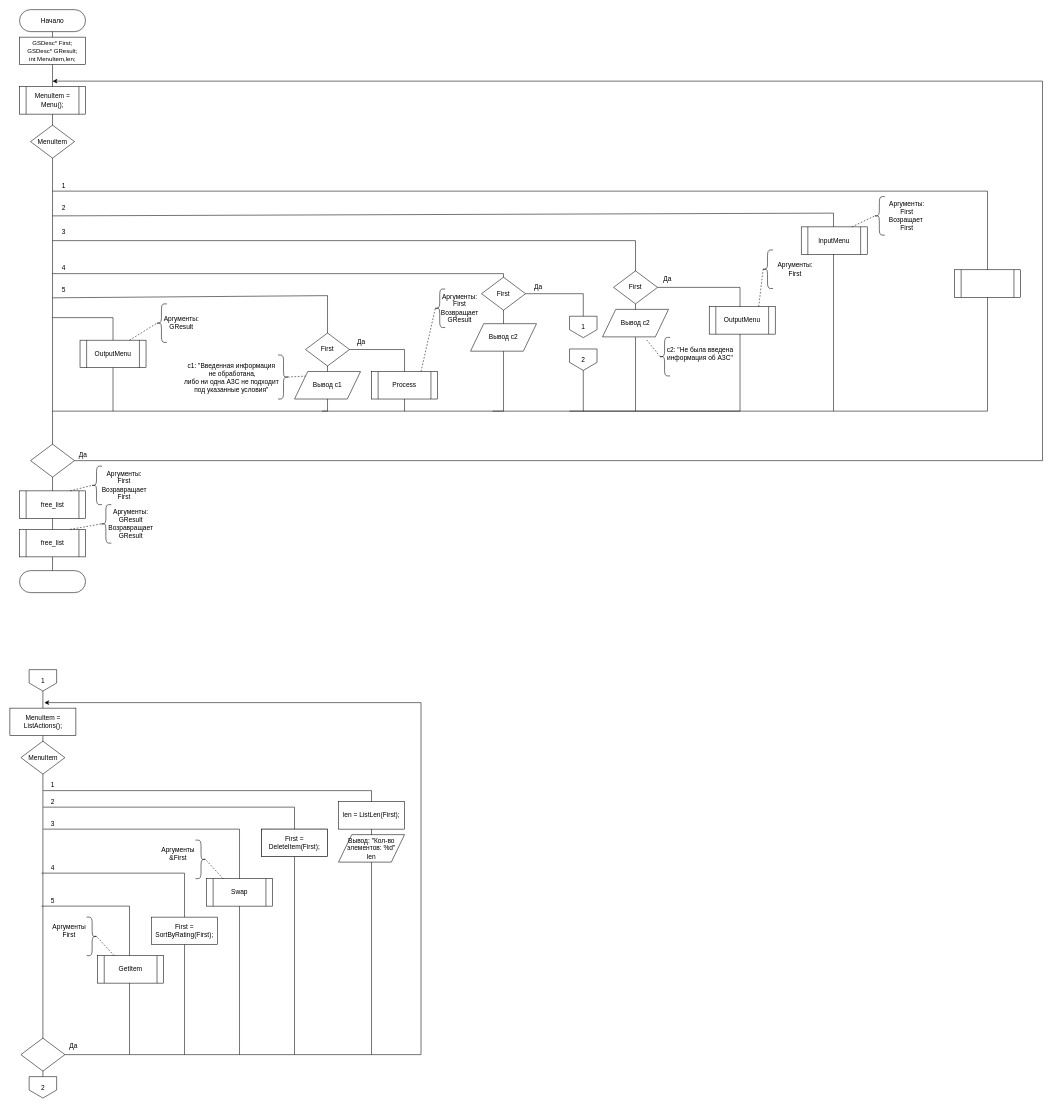
The diagram is 1057 pixels wide and 1108 high, and some of its shapes have lost their labels. The shapes that lost their labels are listed below. From the top down, each one's box as (x1, y1, x2, y2) in pixels, then its label:
(954, 269, 1021, 297): Help
(30, 444, 75, 477): MenuItem != 0
(19, 570, 86, 593): Конец
(20, 1038, 65, 1071): MenuItem != 6
